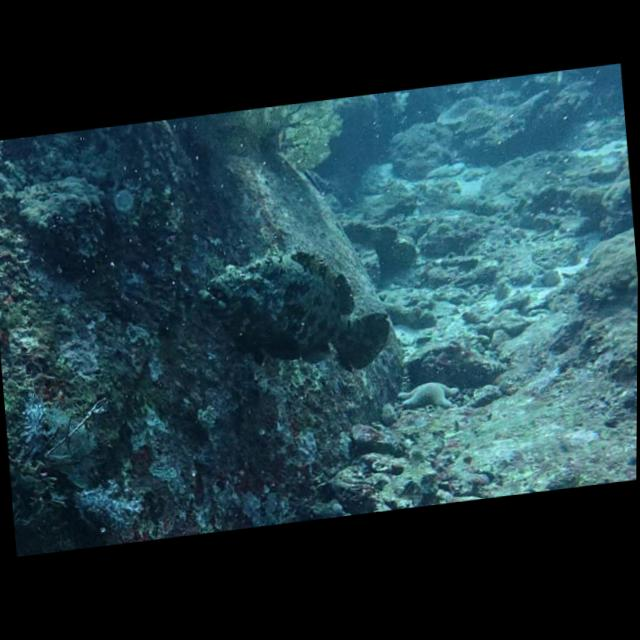Groupers: (192, 233, 395, 391)
